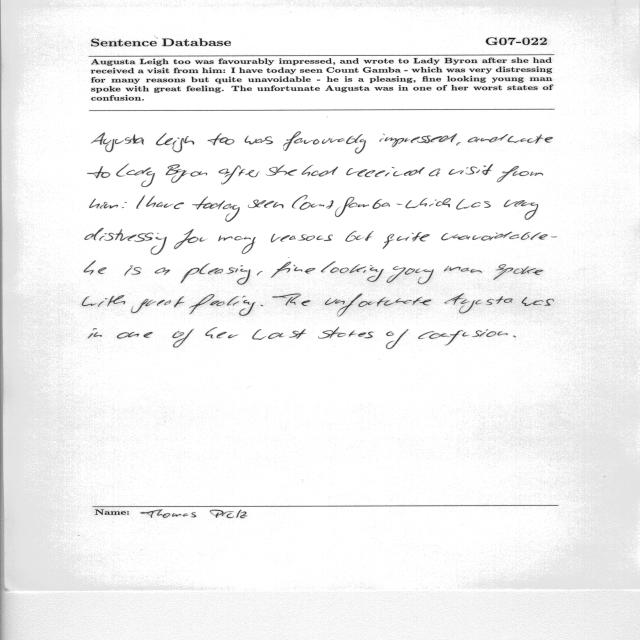word: (325, 294, 431, 317), (85, 228, 167, 255), (283, 132, 366, 154), (181, 263, 251, 285), (189, 294, 256, 316), (418, 330, 508, 346), (444, 294, 513, 314), (321, 261, 384, 282), (192, 196, 240, 222), (335, 197, 390, 217), (380, 134, 457, 147), (92, 133, 144, 152), (441, 232, 548, 241), (131, 296, 184, 313), (116, 164, 155, 187), (387, 266, 434, 284), (494, 264, 544, 280), (346, 167, 425, 177), (383, 232, 429, 249), (166, 164, 207, 183), (219, 166, 260, 185), (497, 166, 543, 182), (156, 133, 194, 152), (271, 262, 316, 278), (218, 236, 256, 254), (504, 200, 538, 220), (318, 327, 374, 339), (292, 195, 334, 210), (174, 229, 205, 249), (252, 329, 306, 340), (82, 295, 125, 307), (271, 234, 333, 242), (146, 196, 184, 209), (449, 164, 493, 175), (405, 198, 451, 208), (273, 294, 311, 306), (508, 134, 553, 144), (386, 329, 408, 349), (302, 165, 338, 176), (172, 329, 194, 347), (456, 199, 491, 210), (206, 328, 239, 339), (266, 165, 297, 176), (208, 134, 235, 146), (84, 261, 107, 275), (468, 134, 508, 142), (345, 231, 374, 242), (248, 200, 283, 209), (522, 297, 554, 306), (90, 199, 118, 209), (88, 167, 110, 179), (117, 332, 153, 339), (245, 136, 273, 144), (125, 265, 142, 276), (88, 328, 102, 339), (444, 266, 469, 272), (155, 268, 170, 276), (136, 196, 145, 209), (429, 169, 440, 177), (470, 269, 482, 273), (122, 202, 127, 208), (257, 271, 262, 276), (457, 142, 461, 146), (551, 237, 557, 238), (513, 336, 516, 338), (397, 204, 402, 205), (261, 305, 263, 306)
